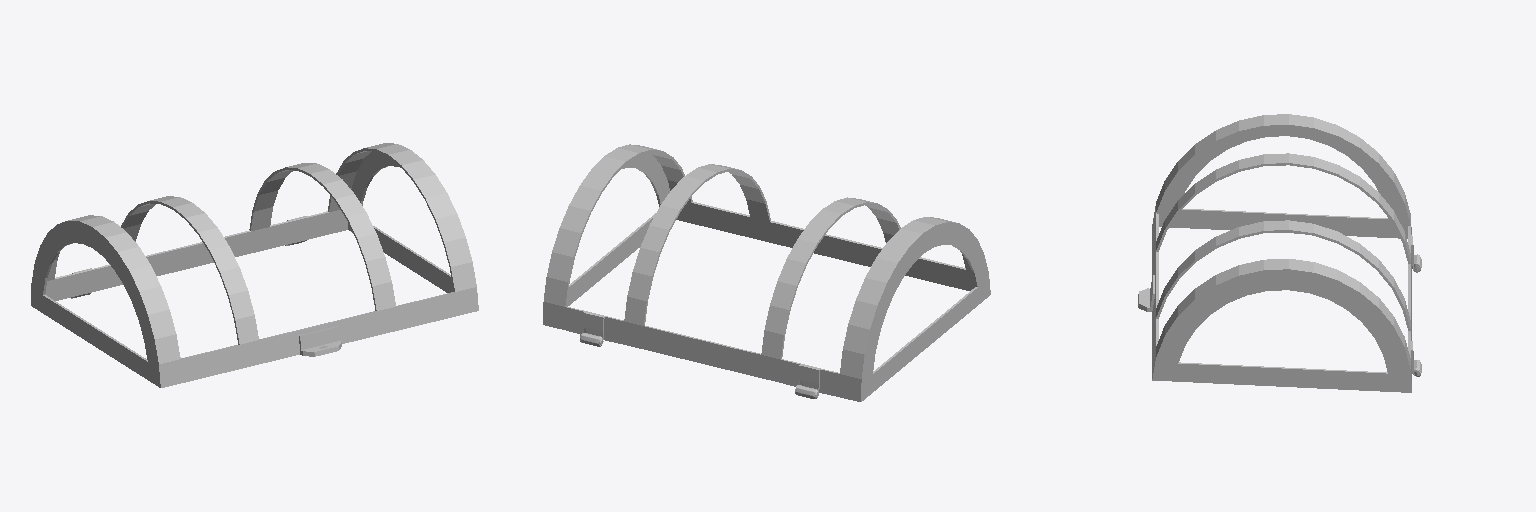
The model's file is CouvercleCoffreAcier.obj.
The picture shows the model from 3 angles: view 1: azimuth 30°, elevation 25°; view 2: azimuth 150°, elevation 25°; view 3: azimuth 270°, elevation 25°; orthographic projection.
Parts seen in each view (by area): view 1: frametop.003; view 2: frametop.003; view 3: frametop.003.
Part boxes in pixels (x1,y1,x2,y2): frametop.003: (31, 143, 478, 387); frametop.003: (543, 144, 990, 401); frametop.003: (1138, 114, 1421, 392).
Bounding box in the file's own units: 2.88 × 1.11 × 2.23.